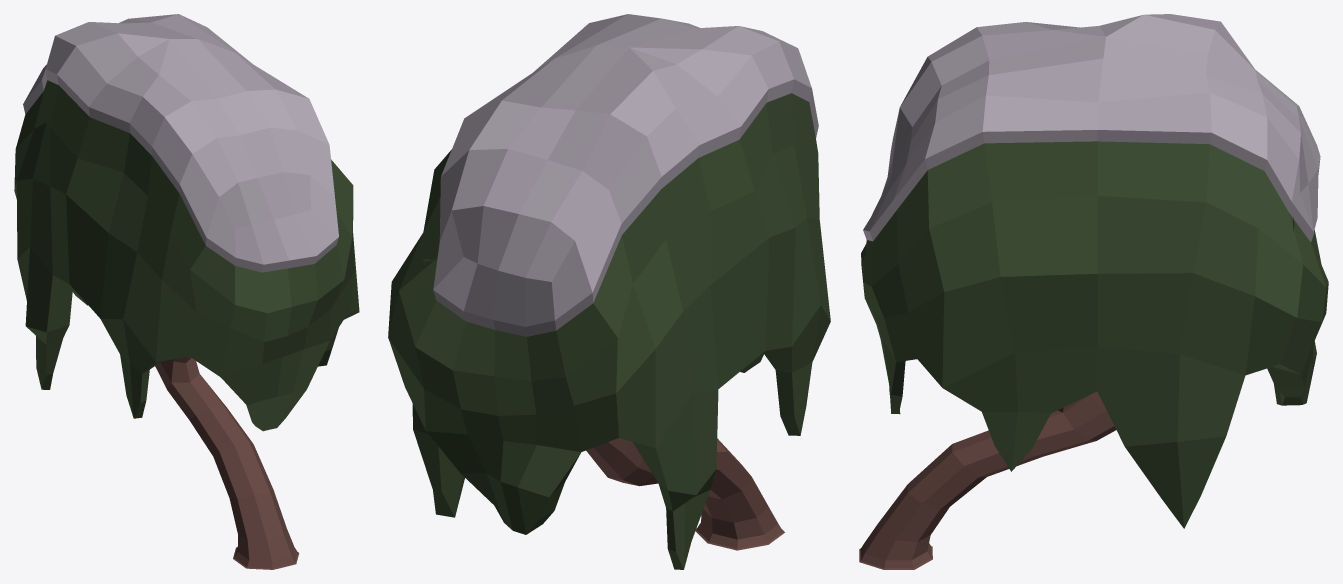
3 views of the same model, side by side, from view 1: azimuth 30°, elevation 25°; view 2: azimuth 150°, elevation 25°; view 3: azimuth 270°, elevation 25° (orthographic). The views are drawn at different scales.
Visible parts, largest first — view 1: Willow_Snow_3; view 2: Willow_Snow_3; view 3: Willow_Snow_3.
Boxes of the visible parts, <box> form: Willow_Snow_3: <box>14,14,359,569</box>; Willow_Snow_3: <box>388,14,830,569</box>; Willow_Snow_3: <box>859,14,1328,569</box>.
Bounding box in the file's own units: 1.32 × 2.41 × 1.98.
